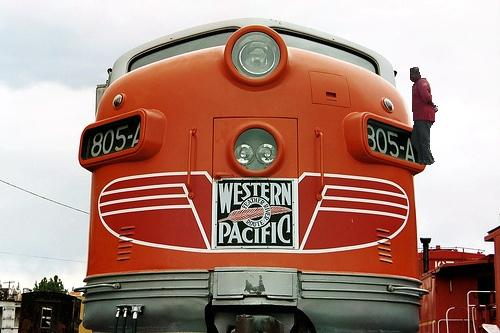tampered: (411, 68, 438, 165)
